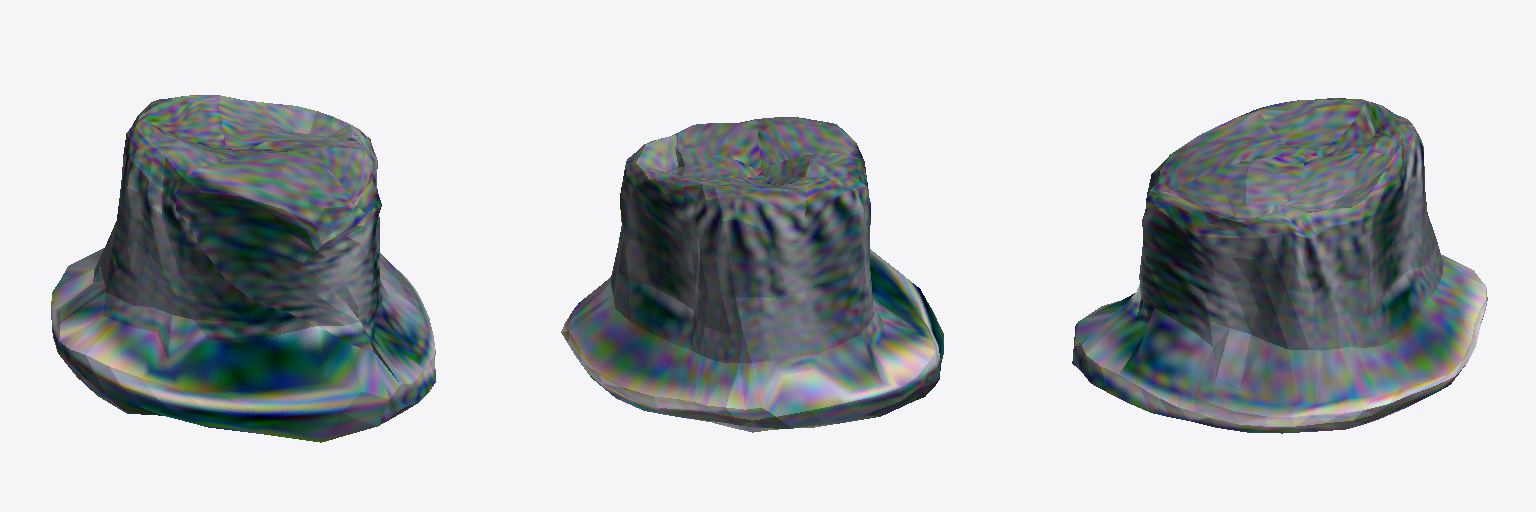
3 views of the same model, side by side, from view 1: azimuth 30°, elevation 25°; view 2: azimuth 150°, elevation 25°; view 3: azimuth 270°, elevation 25° (orthographic).
Visible parts, largest first — view 1: mesh; view 2: mesh; view 3: mesh.
Part boxes in pixels (left/top/right/bottom): mesh: left=51, top=95, right=435, bottom=442; mesh: left=561, top=117, right=943, bottom=432; mesh: left=1072, top=98, right=1487, bottom=433.
Bounding box in the file's own units: 2.39 × 1.6 × 2.52.
Materials: 1 (1 with a texture image).